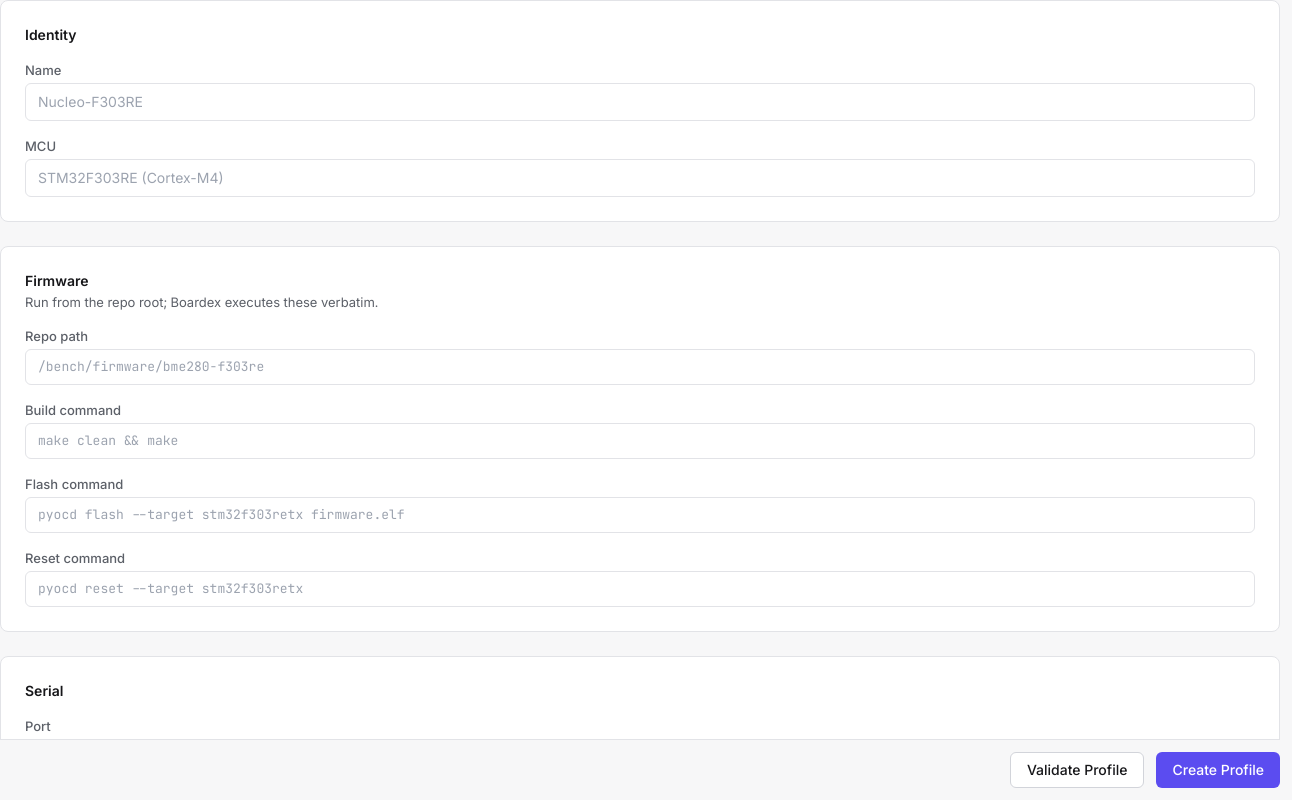
Scenario: validation against the contract schema › blocks the save and marks every required field, section by section
What coordinates should you click on to do the following:
click the button "Create Profile"
I would click on:
 (1218, 770)
Its box is x1=1156 y1=752 x2=1280 y2=788.
(page scrolled)
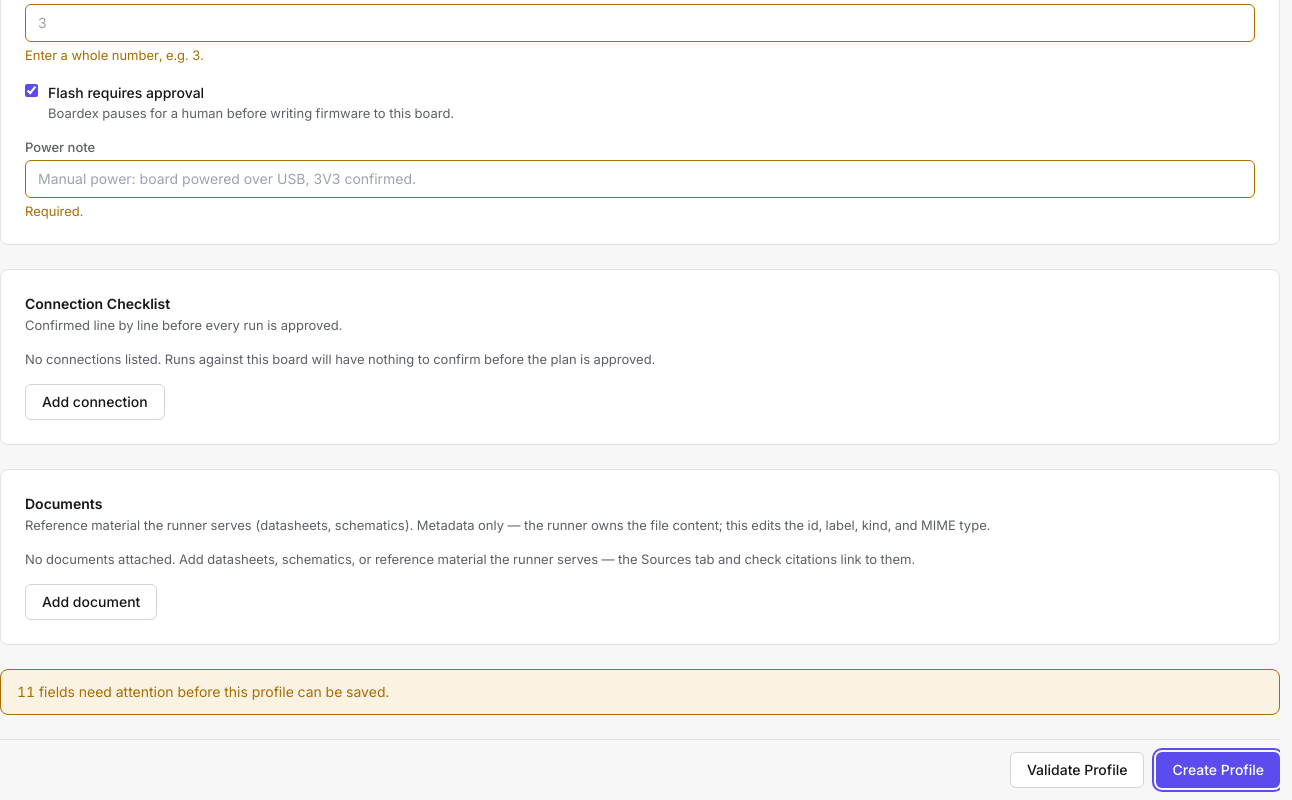
Now the message shows "11 fields need attention", box x1=17 y1=683 x2=389 y2=700
